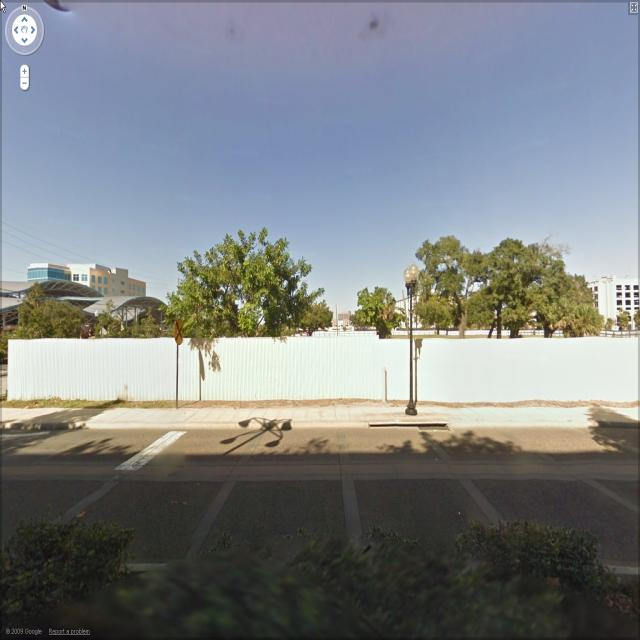b_1: (22, 260, 158, 296)
b_2: (570, 257, 638, 337), (328, 299, 362, 338)
